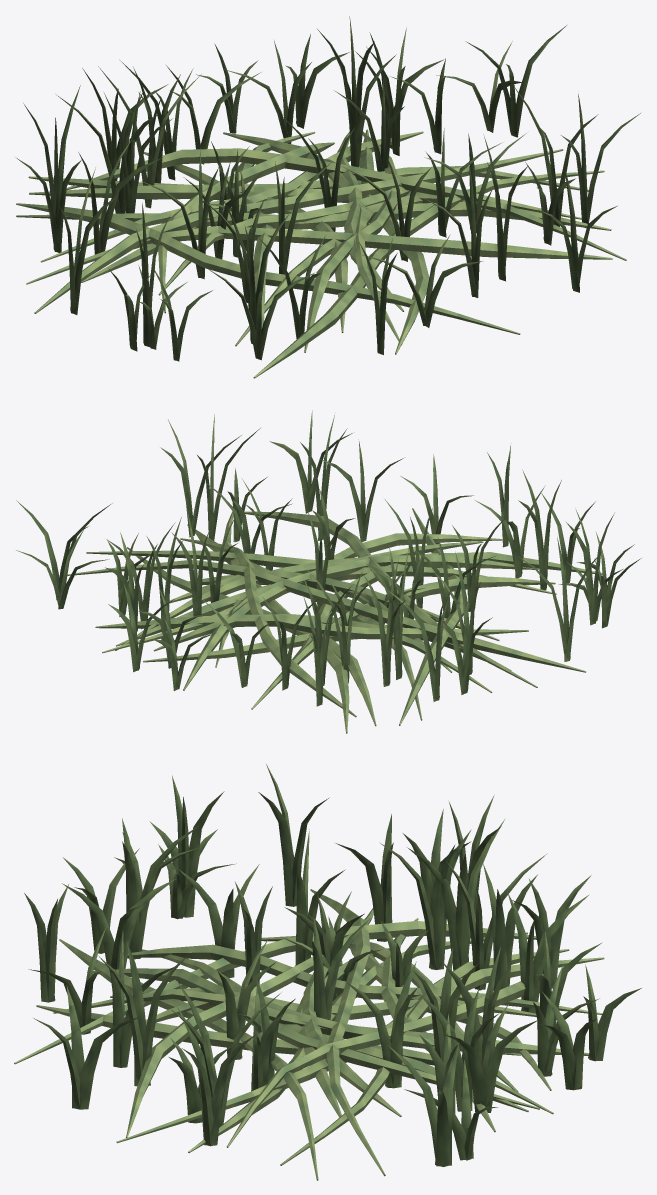
Rendered from underworld-ground-rootgrass-tufts.glb.
3 renders of one model, top to bottom at view 1: azimuth 30°, elevation 25°; view 2: azimuth 150°, elevation 25°; view 3: azimuth 270°, elevation 25°, orthographic. The views are drawn at different scales.
Parts seen in each view (by area): view 1: root-grass, woven-runners; view 2: root-grass, woven-runners; view 3: root-grass, woven-runners.
Part boxes in pixels (<box>): root-grass: <box>15,16,641,361</box>; woven-runners: <box>16,129,626,378</box>; root-grass: <box>16,410,641,706</box>; woven-runners: <box>67,508,602,733</box>; root-grass: <box>24,764,641,1166</box>; woven-runners: <box>14,889,604,1180</box>.
Bounding box in the file's own units: 3.77 × 0.7958 × 3.32.
2 materials, 2 textured.
